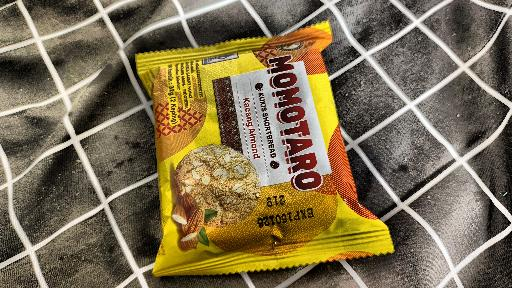top: (137, 22, 397, 270)
